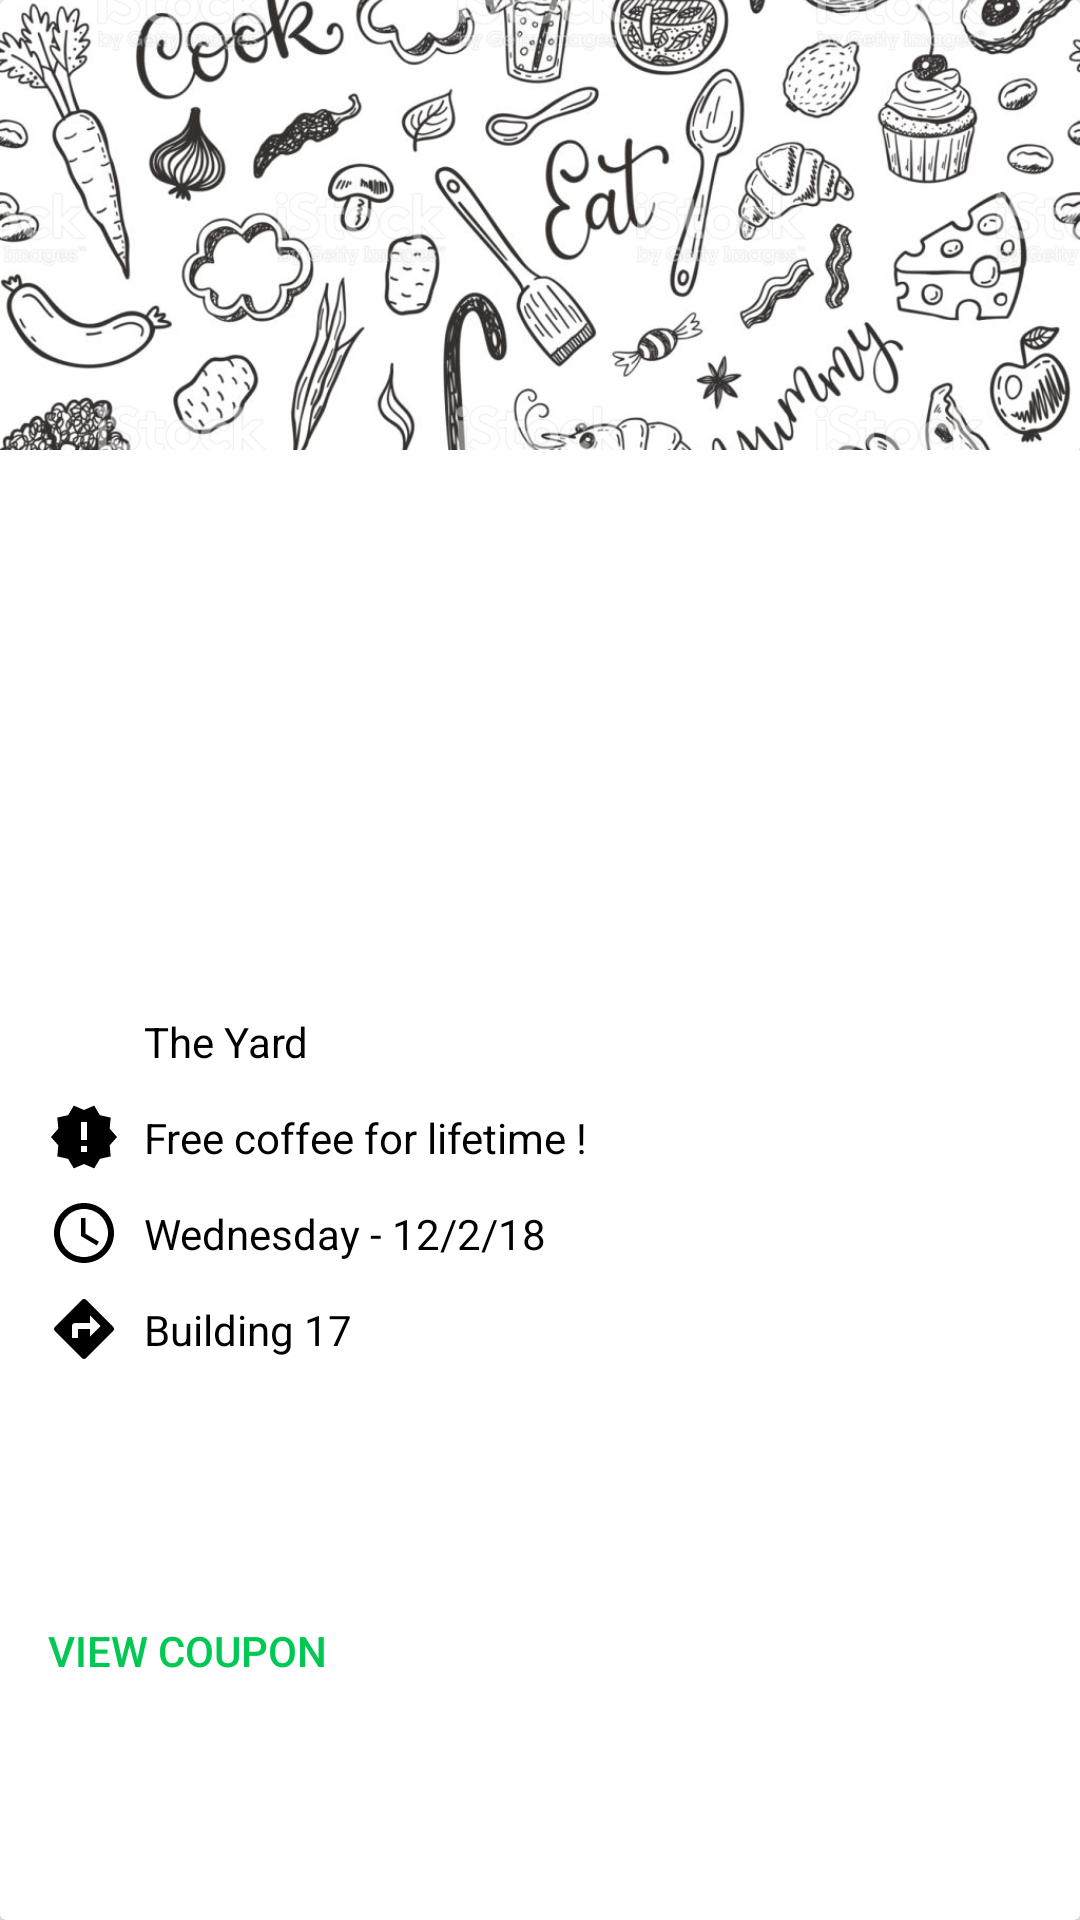

Screen size 1080x1920. Icon name, then its box in pixels as rect(x1, y1, x2, y2):
directions: rect(54, 1299, 114, 1359)
promo: rect(51, 1105, 117, 1169)
